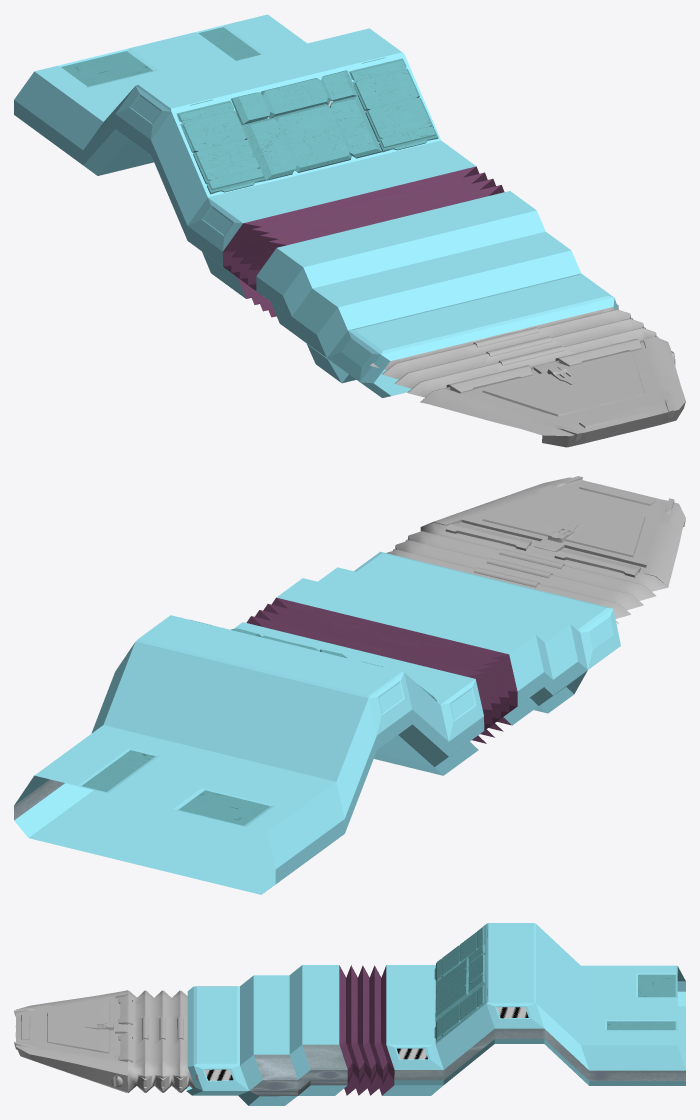
The model's file is стартовая.fbx.
The picture shows the model from 3 angles, top to bottom: view 1: azimuth 30°, elevation 25°; view 2: azimuth 150°, elevation 25°; view 3: azimuth 270°, elevation 25°; orthographic projection. The views are drawn at different scales.
Visible parts, largest first — view 1: part2, part3, part3.006, lp_triangle, part3.003, lp_ledder, connector1, part3.002; view 2: part3.003, part3.002, part2, part3, lp_triangle, lp_ledder, connector1; view 3: part2, part3, part3.003, lp_triangle, lp_ledder, connector1, part3.002, part3.006.
Boxes of the visible parts, left/top/right/bottom form: part2: left=256, top=191, right=618, bottom=397; part3: left=115, top=28, right=475, bottom=298; part3.006: left=176, top=57, right=438, bottom=194; lp_triangle: left=420, top=337, right=685, bottom=447; part3.003: left=14, top=14, right=306, bottom=164; lp_ledder: left=370, top=304, right=658, bottom=402; connector1: left=222, top=166, right=504, bottom=317; part3.002: left=83, top=87, right=153, bottom=175; part3.003: left=14, top=725, right=344, bottom=894; part3.002: left=91, top=641, right=376, bottom=832; part2: left=276, top=551, right=620, bottom=725; part3: left=136, top=615, right=484, bottom=775; lp_triangle: left=422, top=476, right=685, bottom=586; lp_ledder: left=386, top=523, right=667, bottom=623; connector1: left=246, top=597, right=517, bottom=743; part2: left=186, top=965, right=347, bottom=1105; part3: left=382, top=923, right=544, bottom=1095; part3.003: left=581, top=965, right=685, bottom=1085; lp_triangle: left=14, top=990, right=127, bottom=1092; lp_ledder: left=118, top=990, right=198, bottom=1092; connector1: left=339, top=965, right=394, bottom=1095; part3.002: left=536, top=924, right=589, bottom=1085; part3.006: left=434, top=927, right=487, bottom=1041.
Bounding box in the file's own units: 161 × 87.06 × 511.
